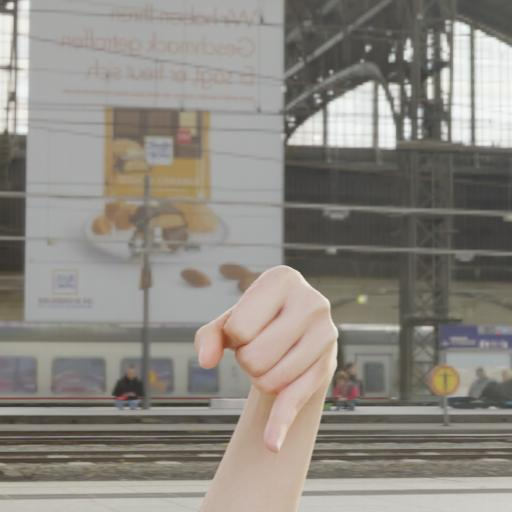J: (162, 240, 352, 478)
